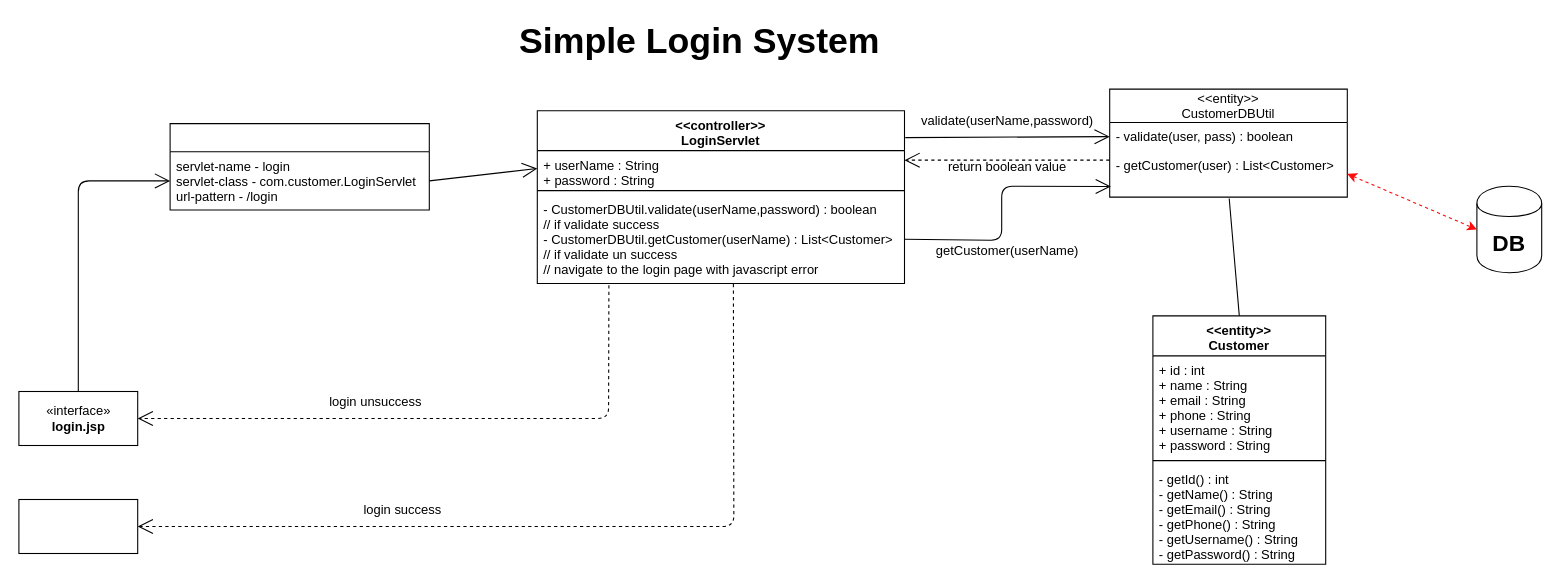
This 1561x585 diagram has some shape labels left out. The box of each missing label's shape, as (x1, y1, x2, y2) in pixels:
web.xml: (169, 123, 429, 210)
«interface» useraccount.jsp: (18, 498, 138, 554)
